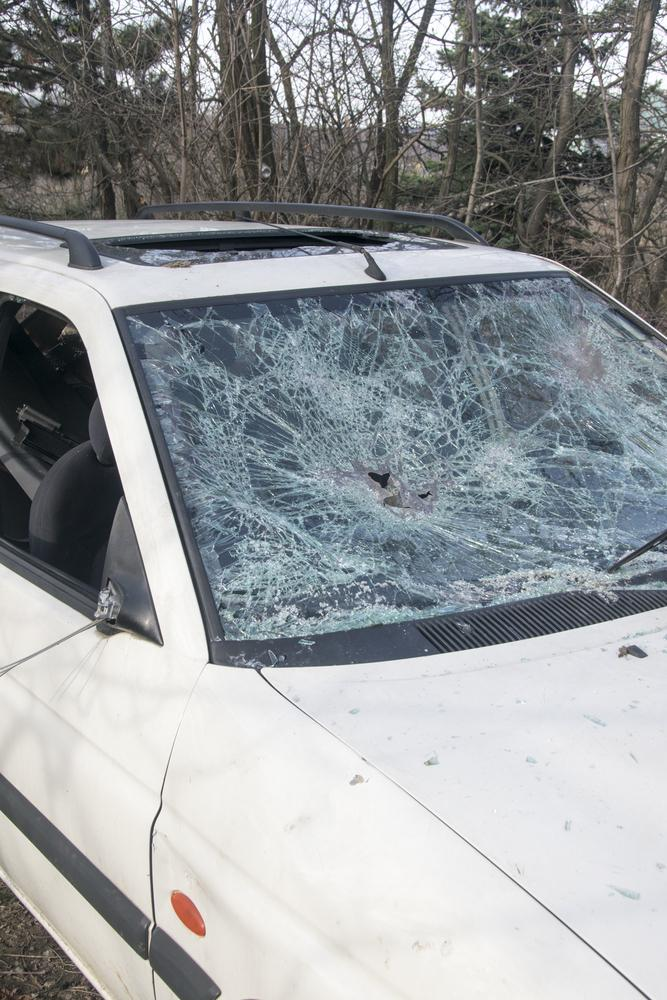glass shatter: (125, 276, 667, 640)
